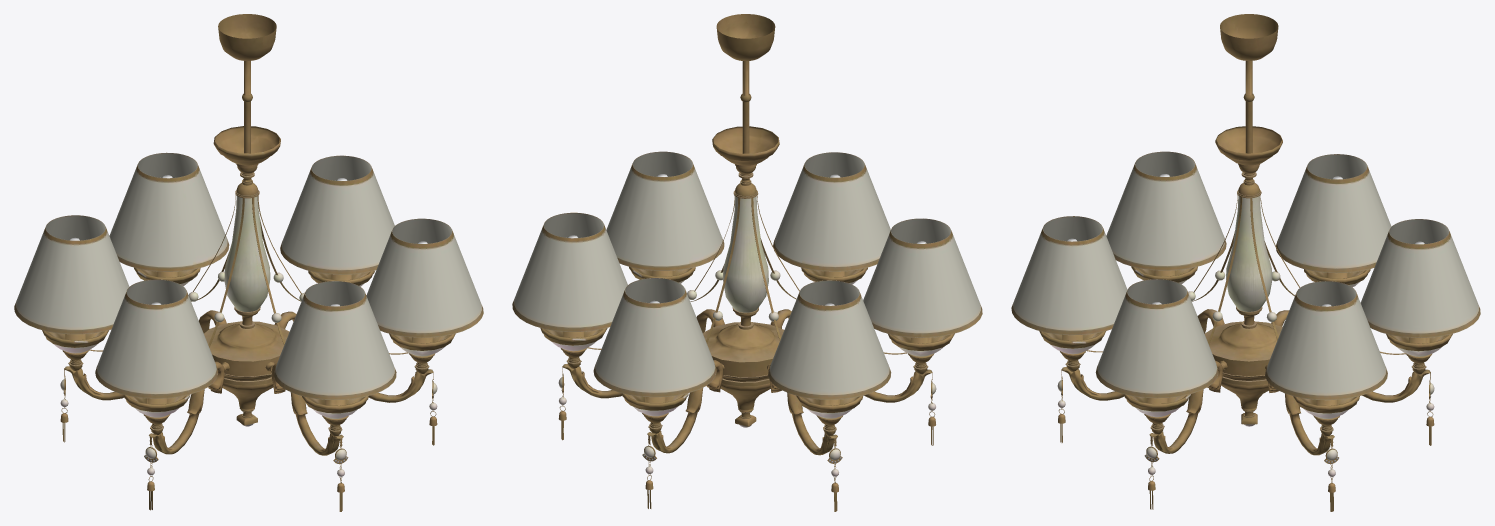
File: ph-Chandelier_01.glb
3 views of the same model, side by side, from view 1: azimuth 30°, elevation 25°; view 2: azimuth 150°, elevation 25°; view 3: azimuth 270°, elevation 25° (orthographic).
Visible parts, largest first — view 1: Chandelier_01; view 2: Chandelier_01; view 3: Chandelier_01.
Part boxes in pixels (bbox=[...]): Chandelier_01: bbox=[14, 14, 483, 511]; Chandelier_01: bbox=[512, 14, 982, 511]; Chandelier_01: bbox=[1011, 14, 1480, 511].
Bounding box in the file's own units: 0.9153 × 0.9788 × 1.
Materials: 2 (1 with a texture image).
